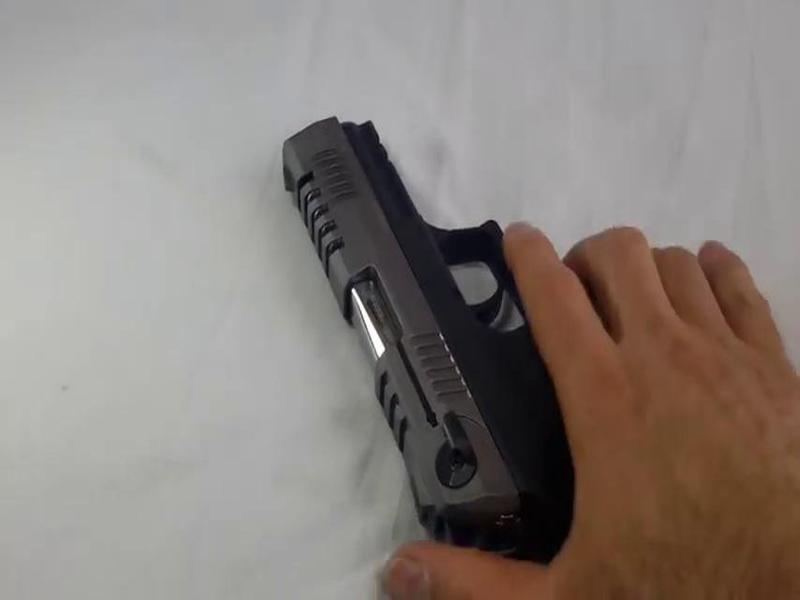Pistola: (279, 103, 644, 579)
